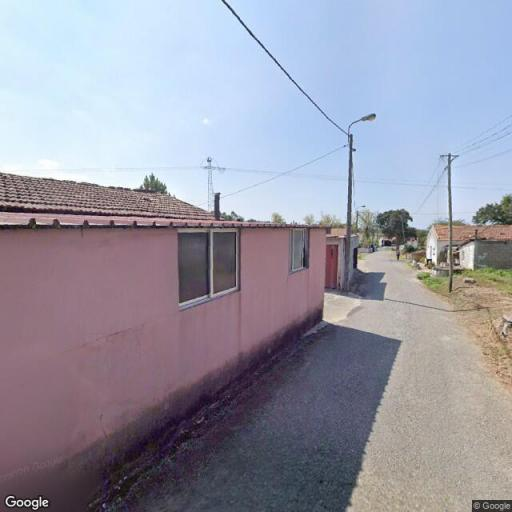mono_7: (438, 151, 462, 292)
ss_1: (205, 154, 218, 210)
